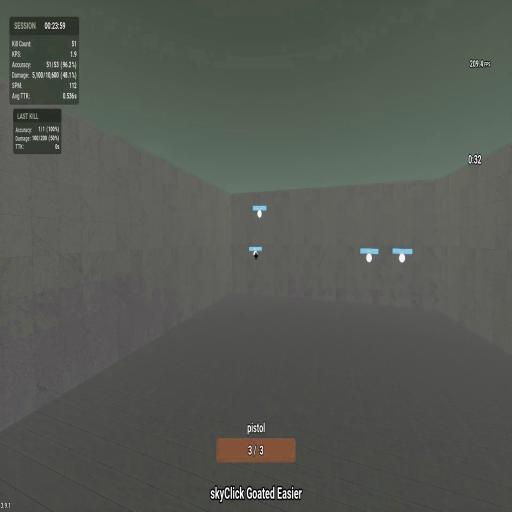Crosshair: (254, 252, 258, 260)
Target: (399, 252, 406, 264), (366, 253, 372, 263), (257, 209, 262, 218), (253, 250, 258, 258)
